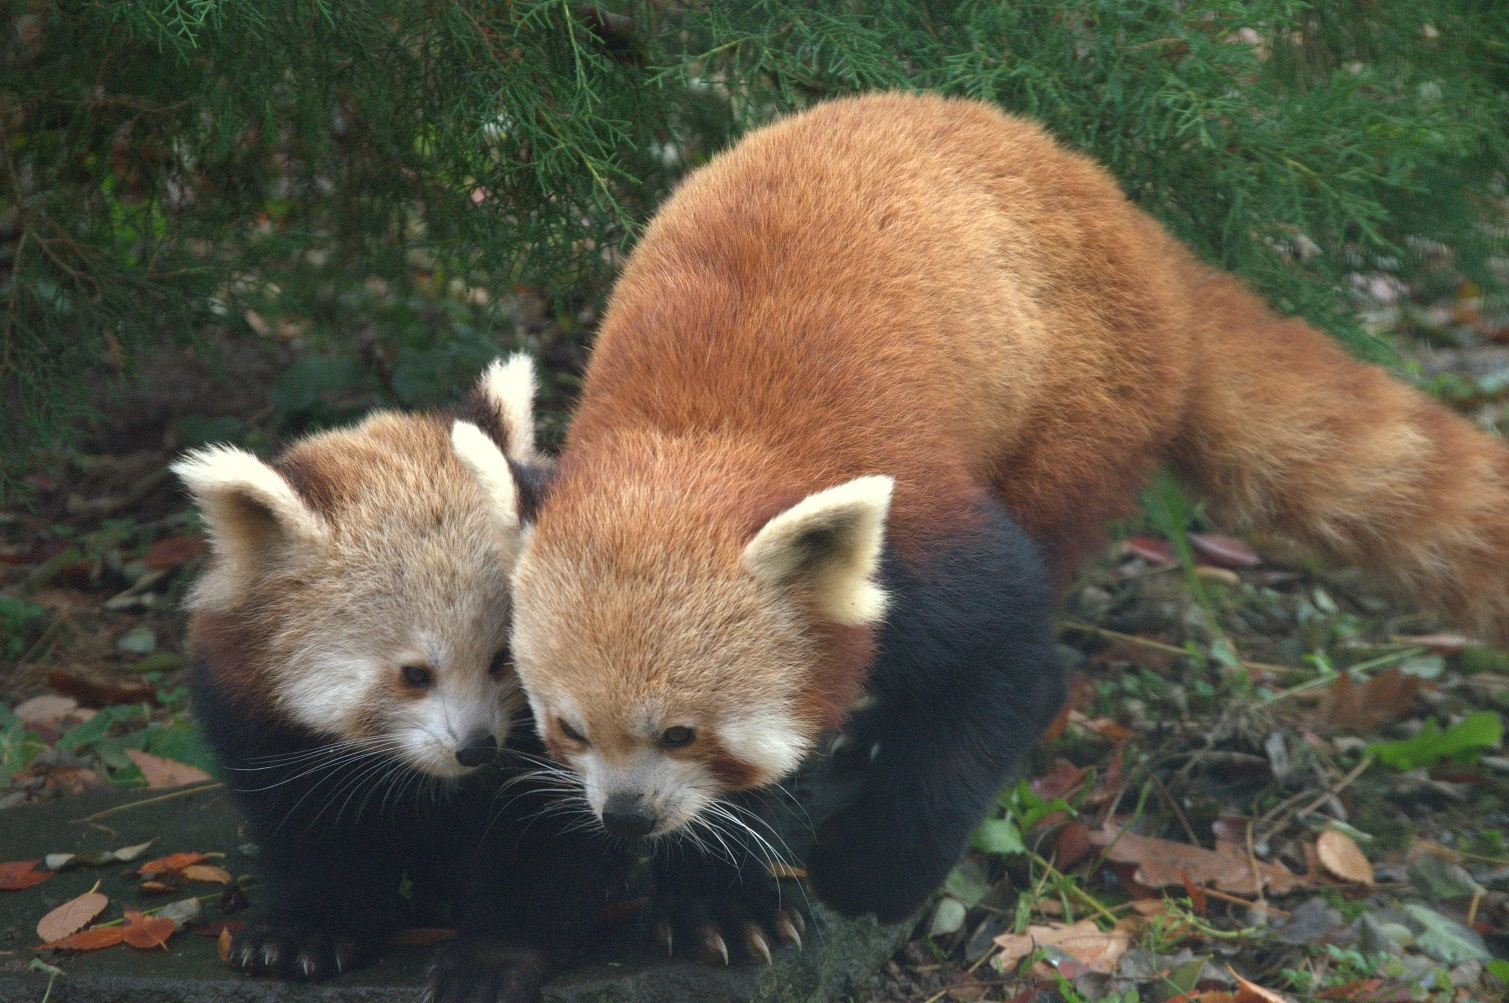red_panda: (516, 84, 1442, 906), (171, 371, 543, 967)
